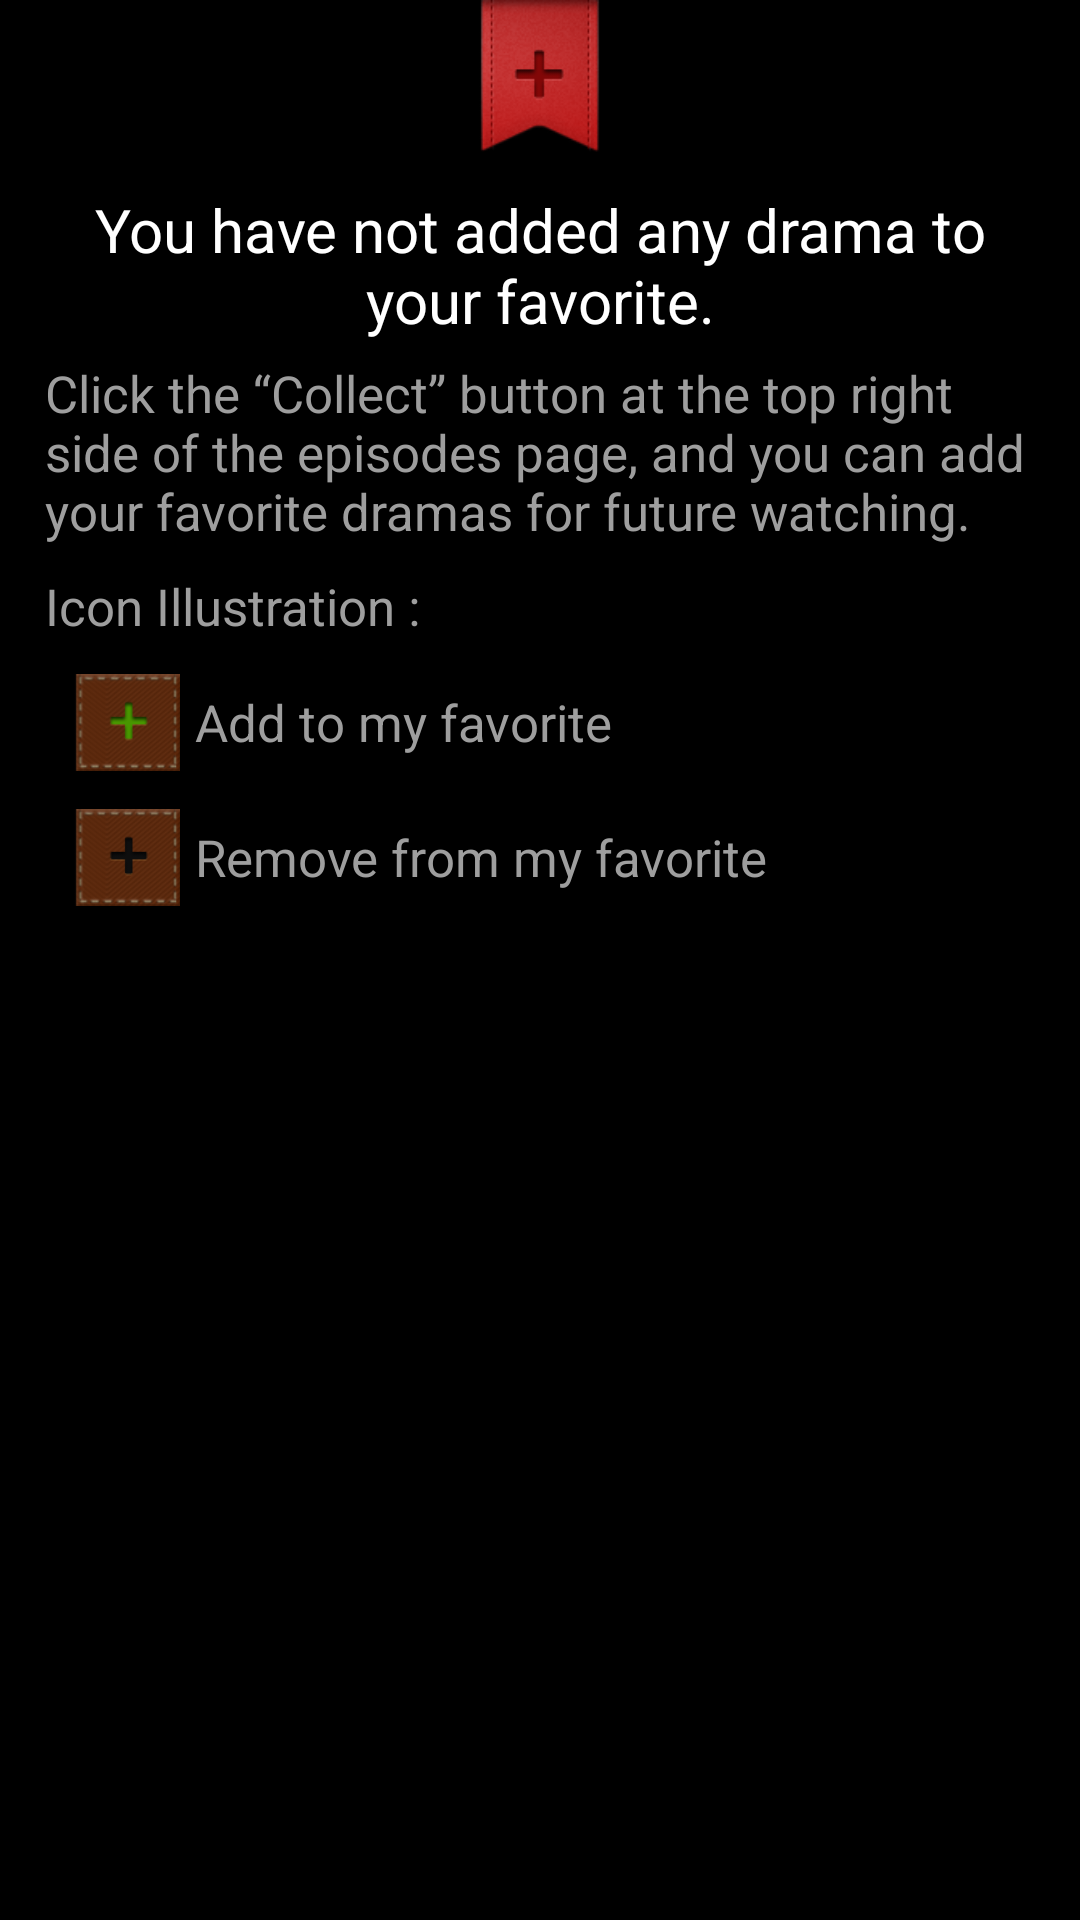

Where icons sit on this 1080×1920 app screen, as (x1, y1, x2, y2):
myfavorite: (481, 0, 599, 151)
